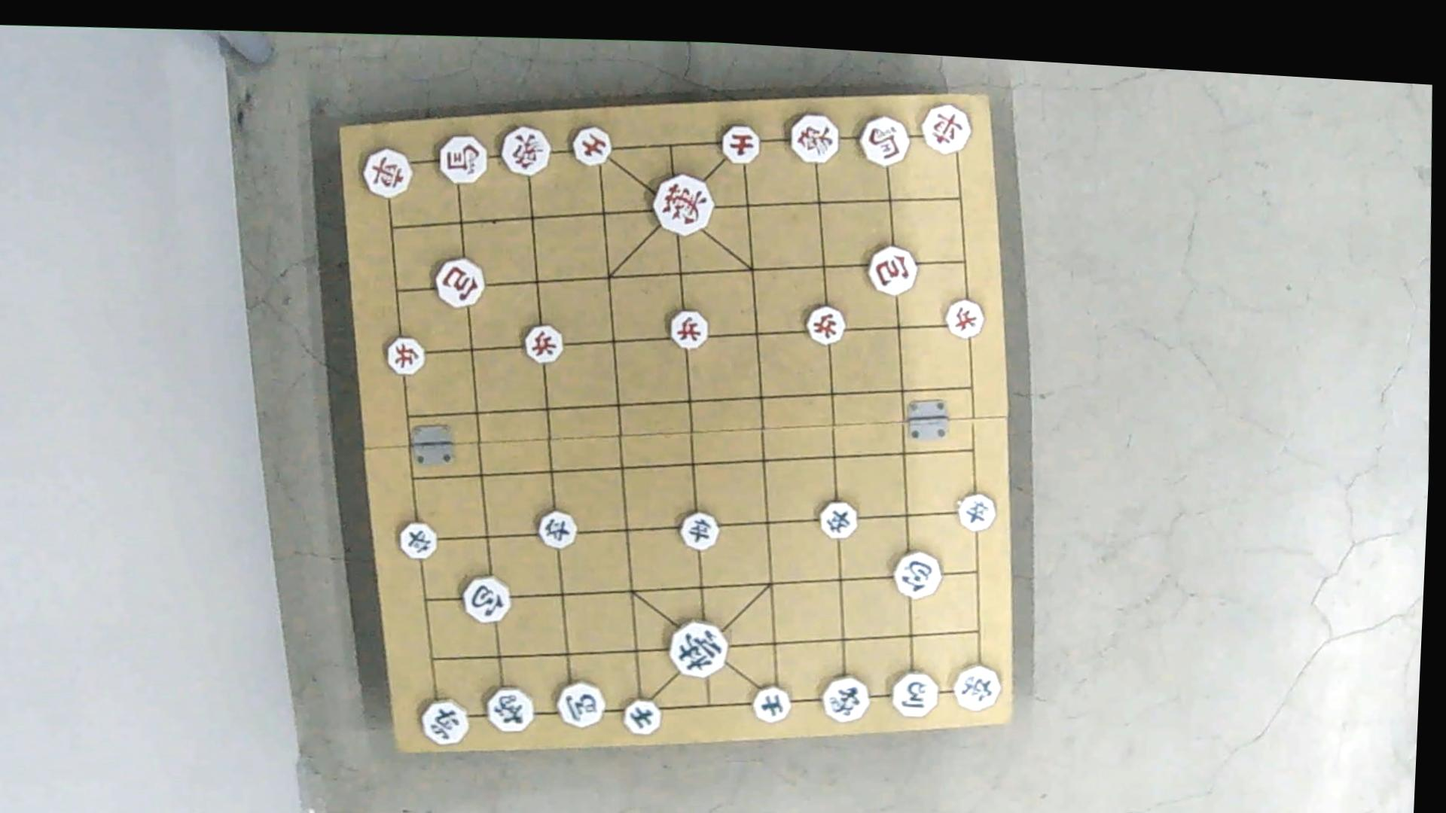cha_green: (952, 662, 1004, 717), (420, 697, 472, 744)
cha_red: (360, 147, 413, 196), (921, 105, 974, 153)
jol_green: (535, 508, 579, 549), (677, 510, 721, 550), (819, 498, 862, 537), (393, 520, 436, 559), (958, 492, 1000, 531)
jol_red: (668, 307, 712, 348), (381, 336, 426, 376), (801, 303, 844, 343), (521, 324, 564, 364), (942, 298, 984, 338)
ma_green: (889, 668, 942, 717), (557, 681, 609, 728)
ma_red: (436, 135, 490, 187), (857, 115, 911, 166)
po_green: (462, 574, 514, 623), (892, 549, 944, 598)
po_red: (868, 246, 920, 297), (435, 257, 487, 307)
sa_green: (749, 684, 792, 721), (620, 699, 662, 735)
sa_red: (570, 124, 615, 165), (721, 123, 764, 163)
sang_green: (818, 672, 871, 721), (485, 685, 536, 732)
sang_red: (493, 126, 553, 180), (788, 112, 840, 165)
wang_green: (665, 618, 729, 678)
wang_red: (651, 171, 715, 234)
